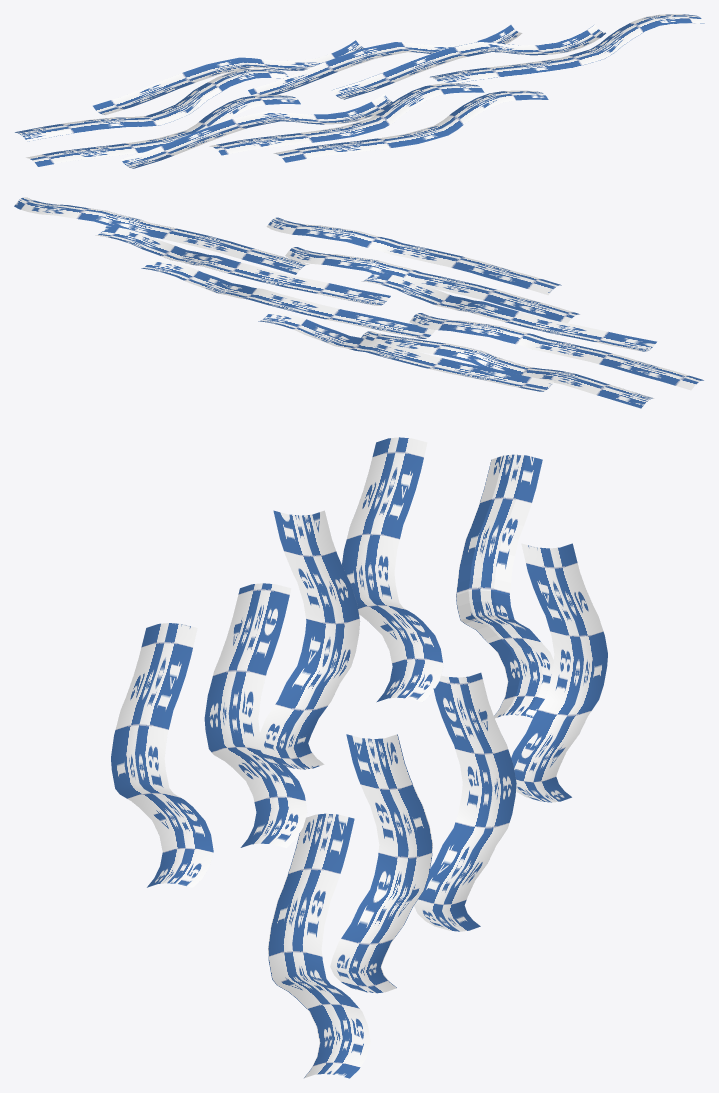
The model's file is Wind10.fbx.
The picture shows the model from 3 angles, top to bottom: view 1: azimuth 30°, elevation 25°; view 2: azimuth 150°, elevation 25°; view 3: azimuth 270°, elevation 25°; orthographic projection. The views are drawn at different scales.
Visible parts, largest first — view 1: SM_e_Env_e_201_Wind005; view 2: SM_e_Env_e_201_Wind005; view 3: SM_e_Env_e_201_Wind005.
Boxes of the visible parts, bbox=[...] form: SM_e_Env_e_201_Wind005: bbox=[15, 14, 704, 168]; SM_e_Env_e_201_Wind005: bbox=[14, 197, 703, 408]; SM_e_Env_e_201_Wind005: bbox=[111, 437, 607, 1078].
Size of the model in its own units: 60267 by 1261 by 19995.
